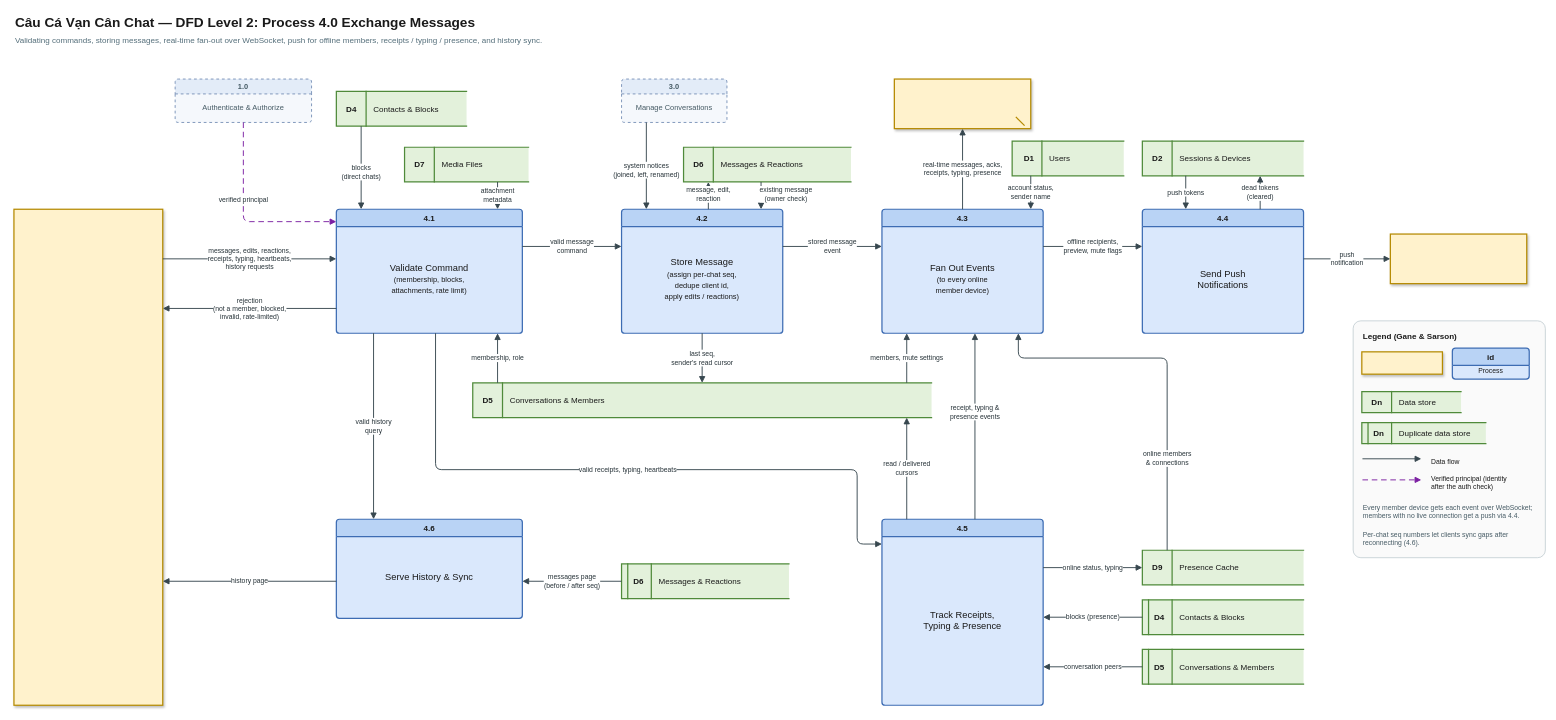
Image size: 1556x720. Some labels were removed from this diagram. Here are the shapes that lost their labels. From the top down, the centre of each, then its label:
[963,104]: User (every member device)
[1459,259]: Push Notification Service (FCM / APNs / Web Push)
[1402,363]: External entity
[89,458]: User (chat client)
